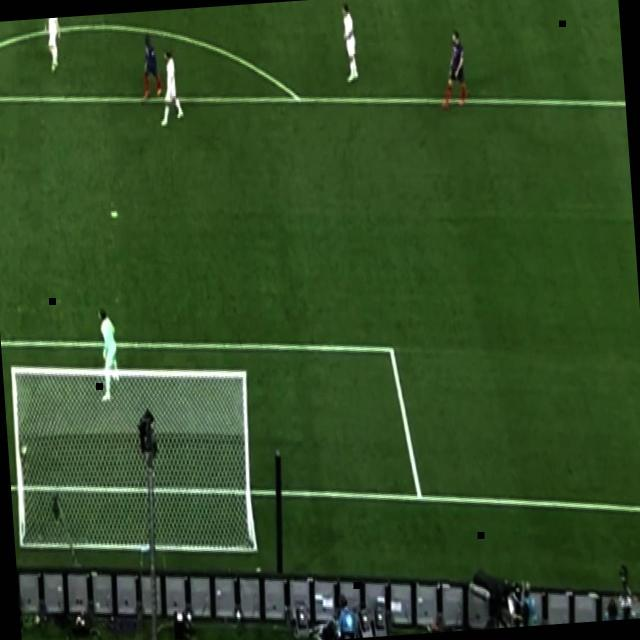player-white: (434, 21, 472, 116), (90, 304, 124, 406), (150, 45, 188, 131), (134, 33, 166, 104), (337, 0, 360, 88), (42, 17, 67, 77)
